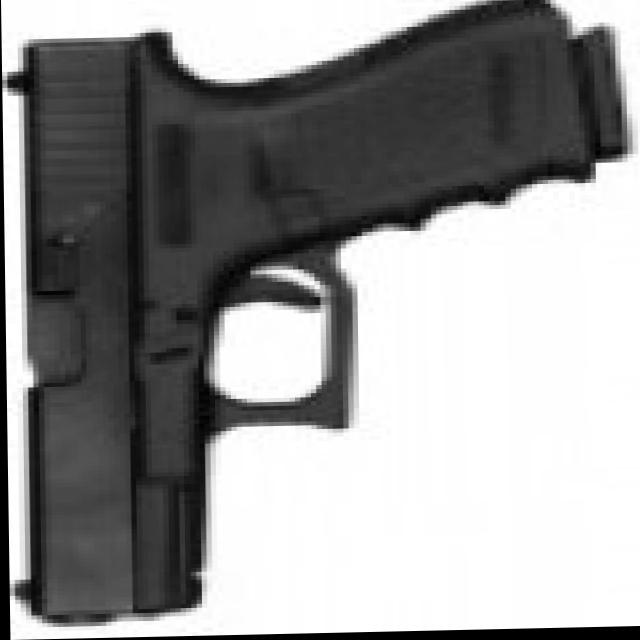handgun: (0, 0, 604, 624)
